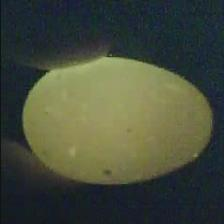infertile: (21, 58, 213, 186)
